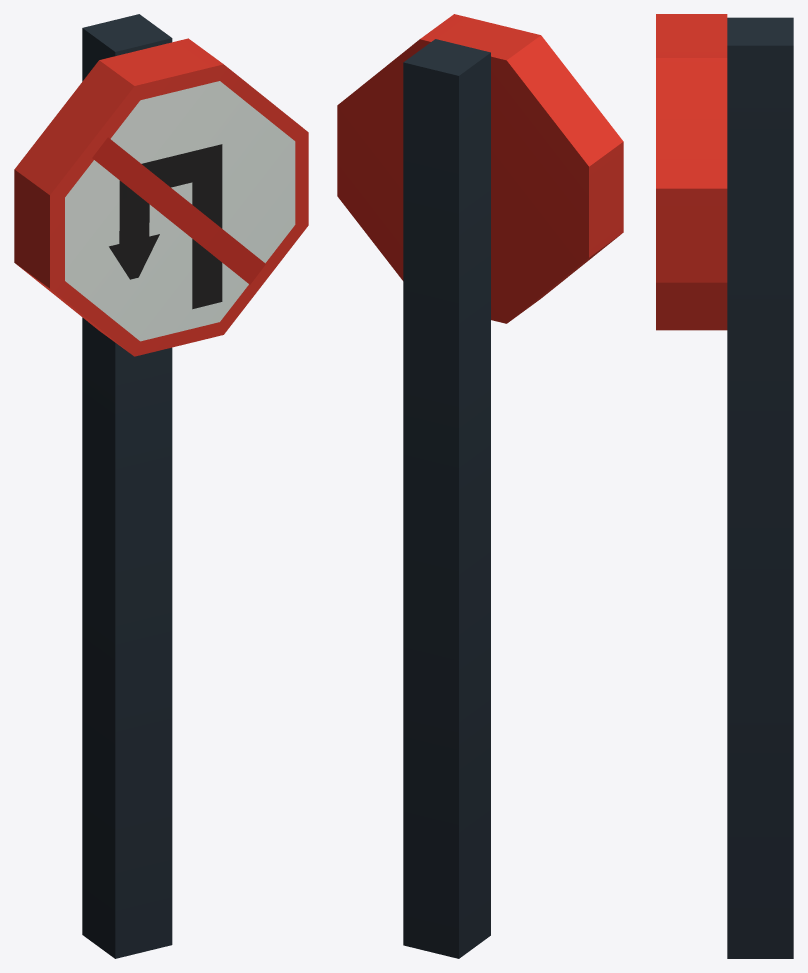
The model's file is Road_sign_8.fbx.
3 renders of one model, left to right at view 1: azimuth 30°, elevation 25°; view 2: azimuth 150°, elevation 25°; view 3: azimuth 270°, elevation 25°, orthographic. The views are drawn at different scales.
Parts seen in each view (by area): view 1: Road_sign_8; view 2: Road_sign_8; view 3: Road_sign_8.
Boxes of the visible parts, x1,y1,x2,y2 form: Road_sign_8: [14, 14, 308, 958]; Road_sign_8: [337, 14, 623, 958]; Road_sign_8: [656, 14, 793, 958].
Bounding box in the file's own units: 107 × 359 × 50.32.
